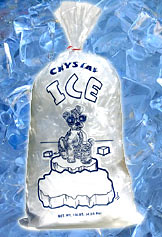plastic bag: (17, 1, 146, 230)
